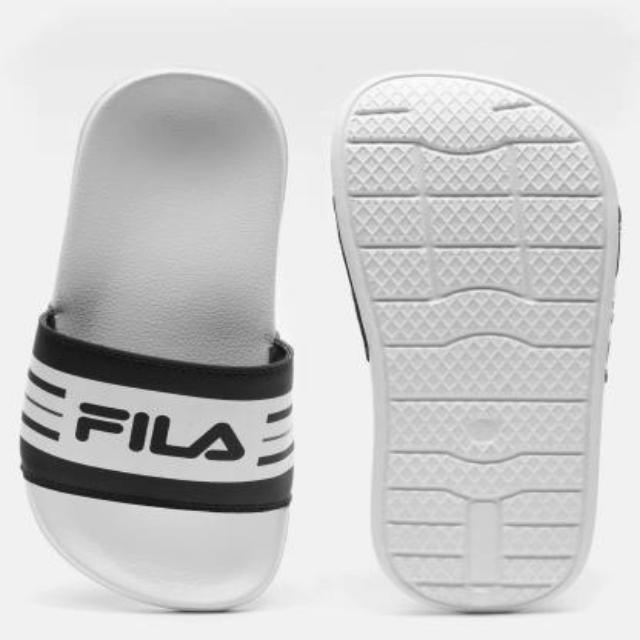FILA_original: (72, 390, 258, 476)
